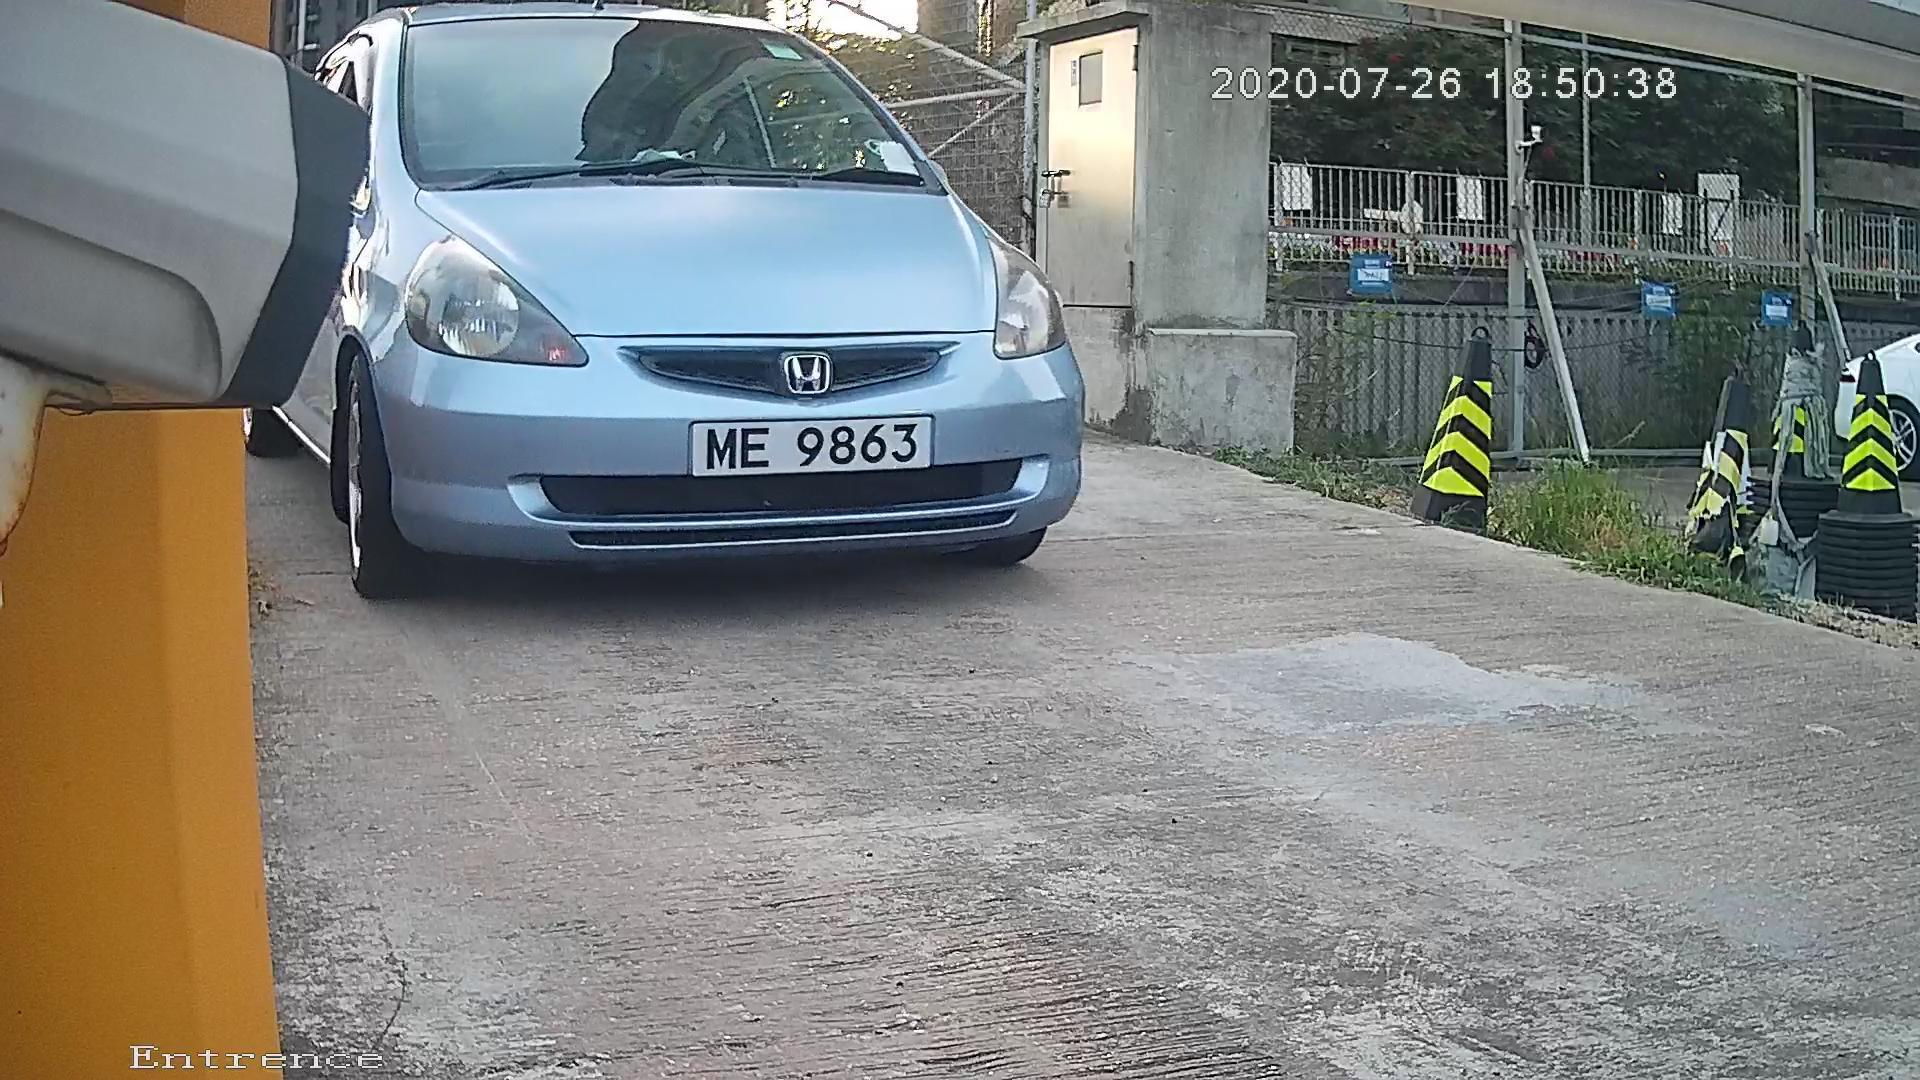License Plate: (678, 401, 926, 478)
